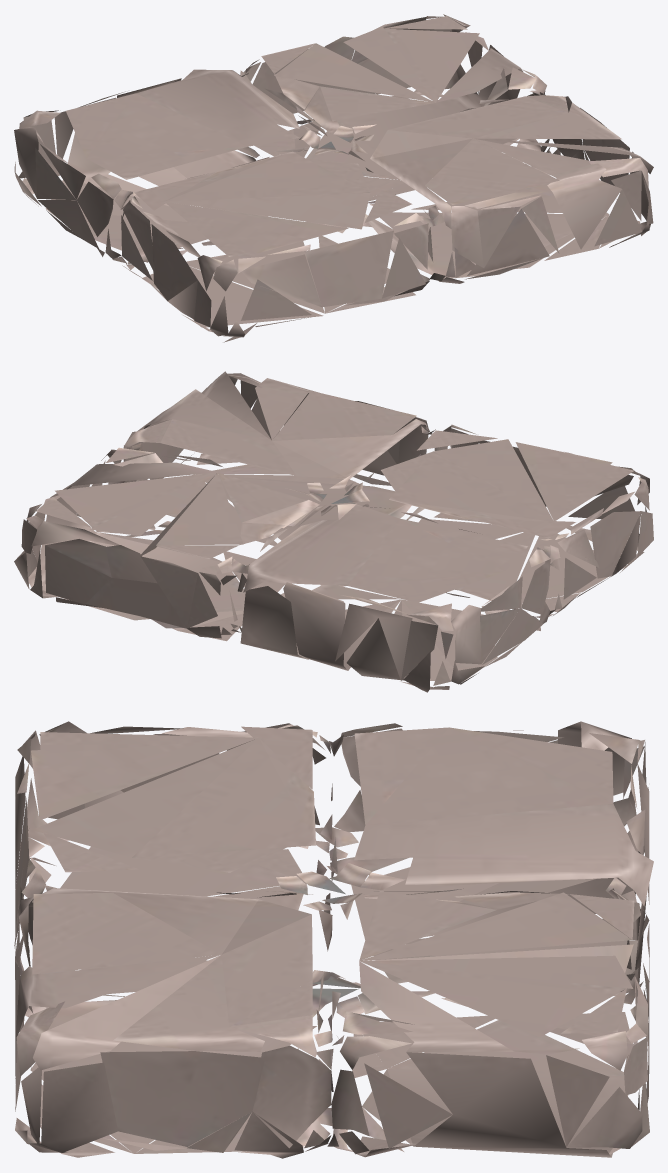
File: paving.glb
3 renders of one model, top to bottom at view 1: azimuth 30°, elevation 25°; view 2: azimuth 150°, elevation 25°; view 3: azimuth 270°, elevation 25°, orthographic. The views are drawn at different scales.
Visible parts, largest first — view 1: Mesh_0; view 2: Mesh_0; view 3: Mesh_0.
Boxes of the visible parts, left/top/right/bottom form: Mesh_0: left=14, top=14, right=653, bottom=342; Mesh_0: left=14, top=371, right=653, bottom=692; Mesh_0: left=14, top=721, right=653, bottom=1158.
Size of the model in its own units: 1.91 by 0.3711 by 1.58.
Materials: 1 (1 with a texture image).
